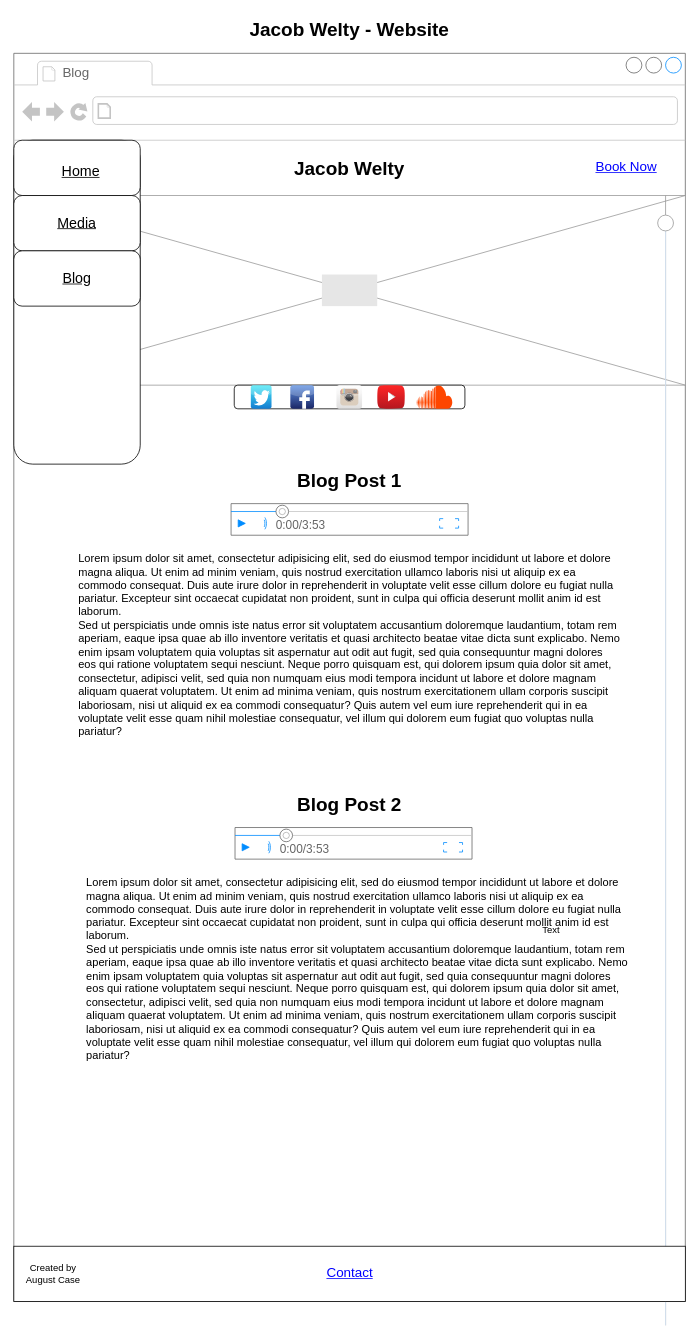
This 699x1339 diagram has some shape labels left out. Each missing label, with the centre of its shape:
"https://www.JacobWeltyMusic.com" goes at [215,110].
"IMG" goes at [349,290].
